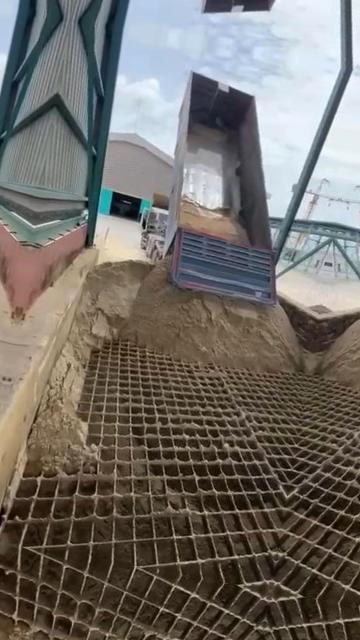sand: (28, 259, 302, 475), (179, 200, 249, 243), (303, 349, 311, 374)
